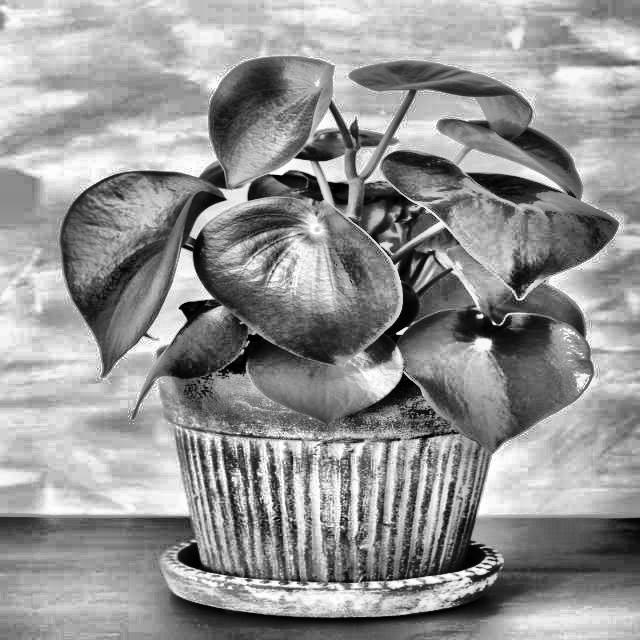plants: (64, 46, 596, 623)
